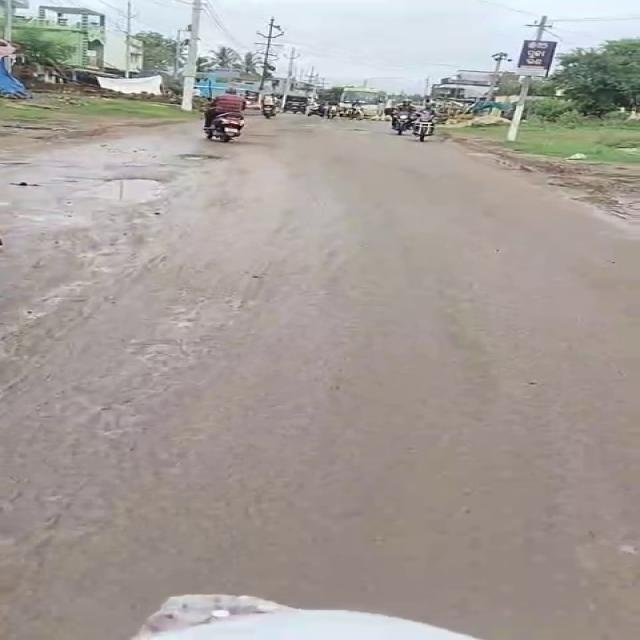pothole: (82, 177, 162, 204), (25, 214, 100, 226), (568, 192, 628, 206), (175, 152, 228, 164)
